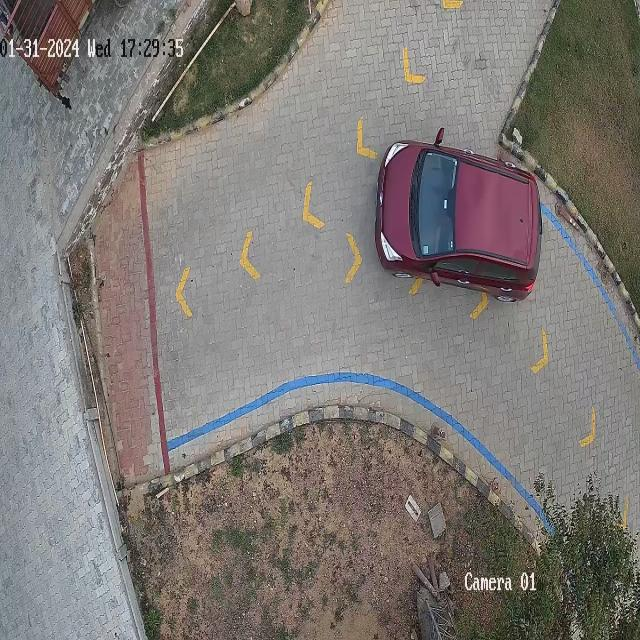car: (375, 129, 541, 302)
